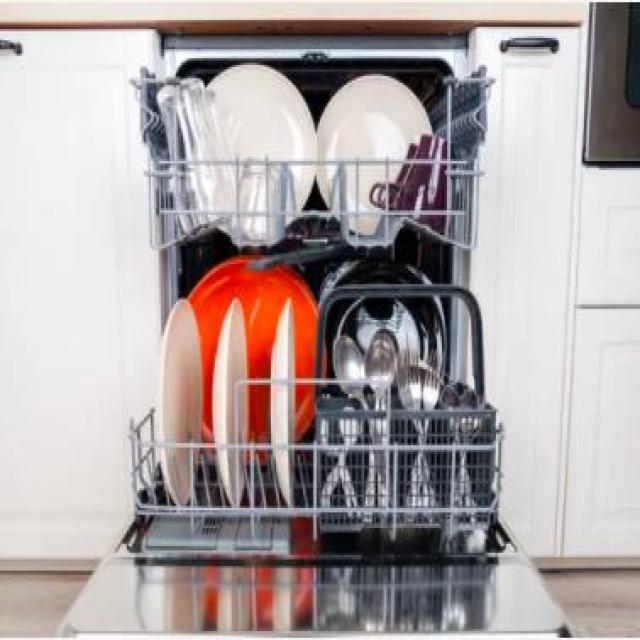dishwasher: (51, 11, 586, 640)
